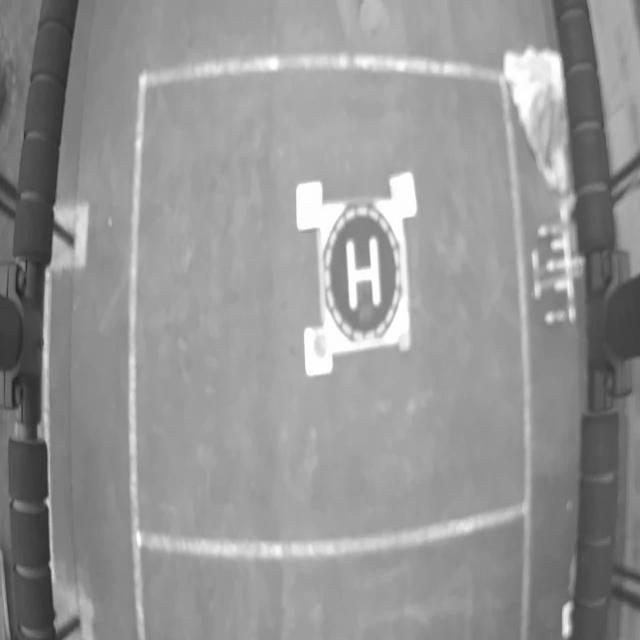Helipad: (345, 237, 381, 312)
